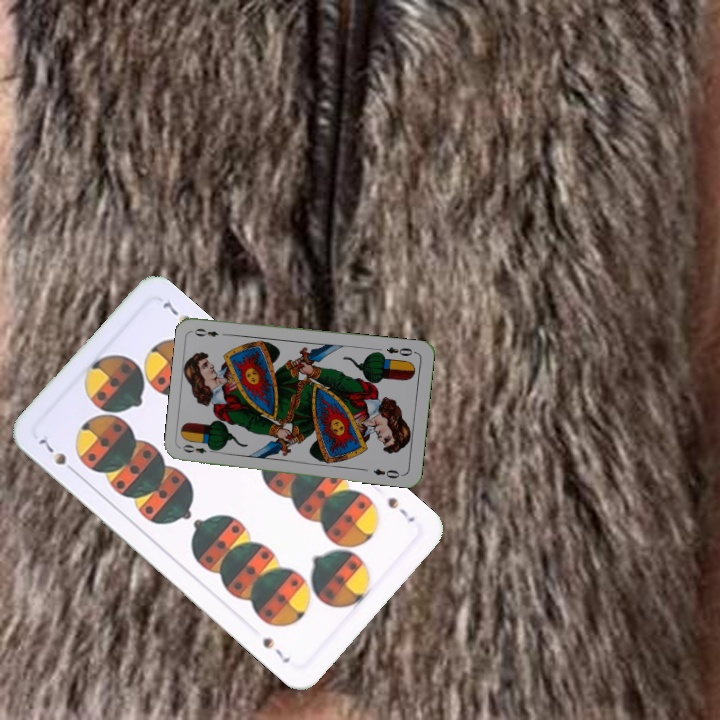EO: (179, 441, 219, 456), (382, 343, 418, 359)
S7: (34, 435, 80, 477), (383, 493, 418, 525)
